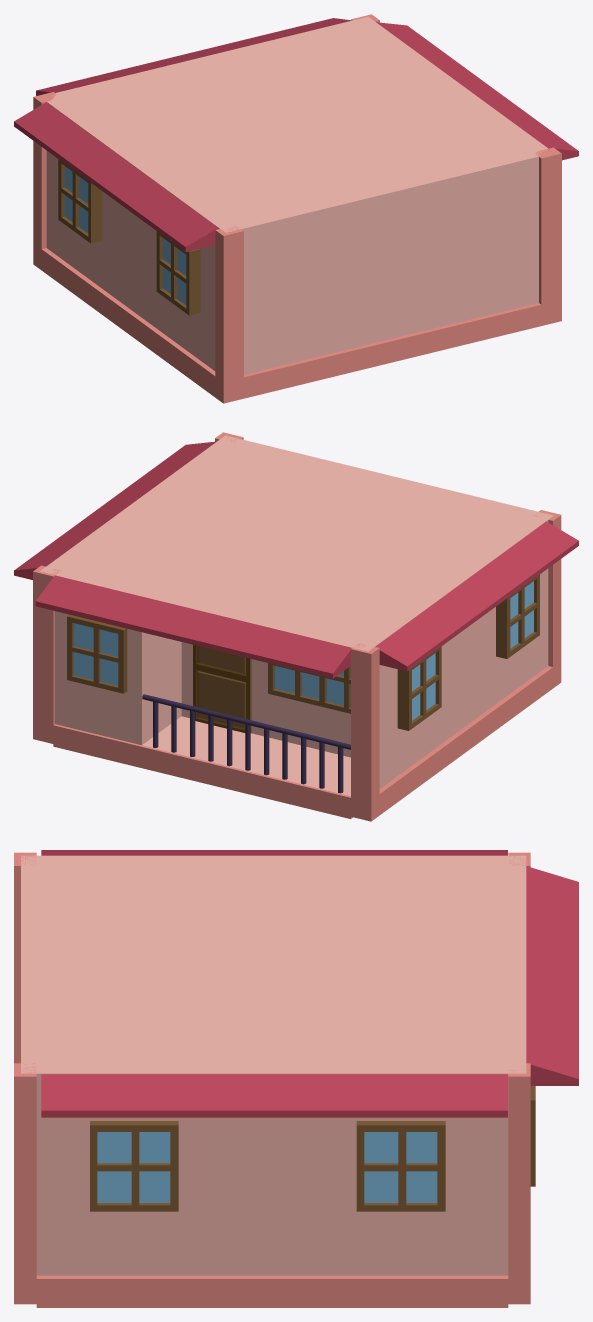
Rendered from Pink Building 2.fbx.
3 views of the same model, one above another, from view 1: azimuth 30°, elevation 25°; view 2: azimuth 150°, elevation 25°; view 3: azimuth 270°, elevation 25° (orthographic). The views are drawn at different scales.
Visible parts, largest first — view 1: Cube.066; view 2: Cube.066; view 3: Cube.066.
Boxes of the visible parts, x1,y1,x2,y2 form: Cube.066: (14, 14, 578, 403); Cube.066: (14, 432, 578, 821); Cube.066: (14, 850, 578, 1307).
Bounding box in the file's own units: 958 × 396 × 877.
